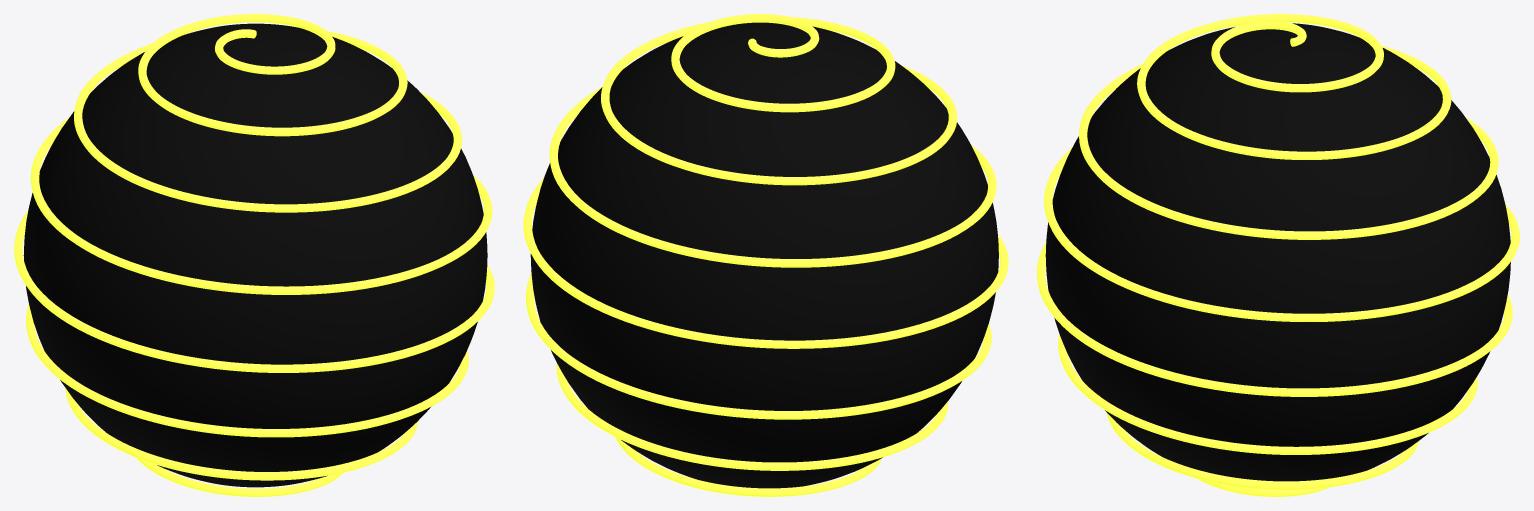
File: monaka_ito.glb
3 views of the same model, side by side, from view 1: azimuth 30°, elevation 25°; view 2: azimuth 150°, elevation 25°; view 3: azimuth 270°, elevation 25° (orthographic).
Parts seen in each view (by area): view 1: ball, ito; view 2: ball, ito; view 3: ball, ito.
Part boxes in pixels (left/top/right/bottom): ball: left=23, top=23, right=487, bottom=487; ito: left=14, top=14, right=494, bottom=496; ball: left=530, top=22, right=998, bottom=488; ito: left=523, top=14, right=1008, bottom=496; ball: left=1045, top=23, right=1510, bottom=481; ito: left=1037, top=14, right=1519, bottom=496.
Bounding box in the file's own units: 1.9 × 1.91 × 1.91.
